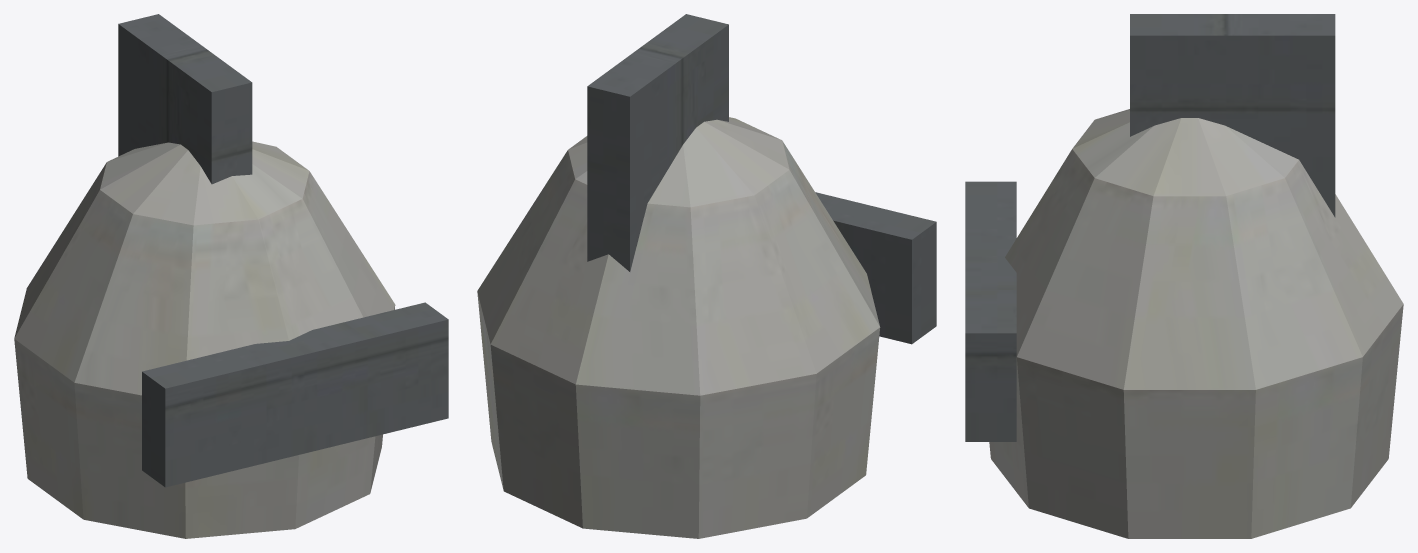
The model's file is eq_future_1_head.glb.
3 renders of one model, left to right at view 1: azimuth 30°, elevation 25°; view 2: azimuth 150°, elevation 25°; view 3: azimuth 270°, elevation 25°, orthographic. The views are drawn at different scales.
Parts seen in each view (by area): view 1: eq_future_1_head; view 2: eq_future_1_head; view 3: eq_future_1_head.
Boxes of the visible parts, x1=… form: eq_future_1_head: x1=14, y1=14, x2=448, y2=538; eq_future_1_head: x1=477, y1=14, x2=936, y2=538; eq_future_1_head: x1=965, y1=14, x2=1403, y2=538.
Size of the model in its own units: 0.2378 by 0.28 by 0.2562.
2 materials, 2 textured.
